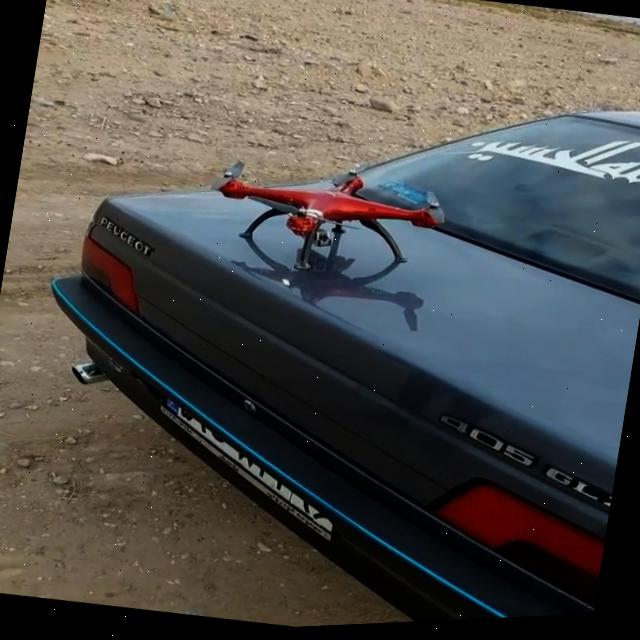drone: (187, 140, 454, 304)
